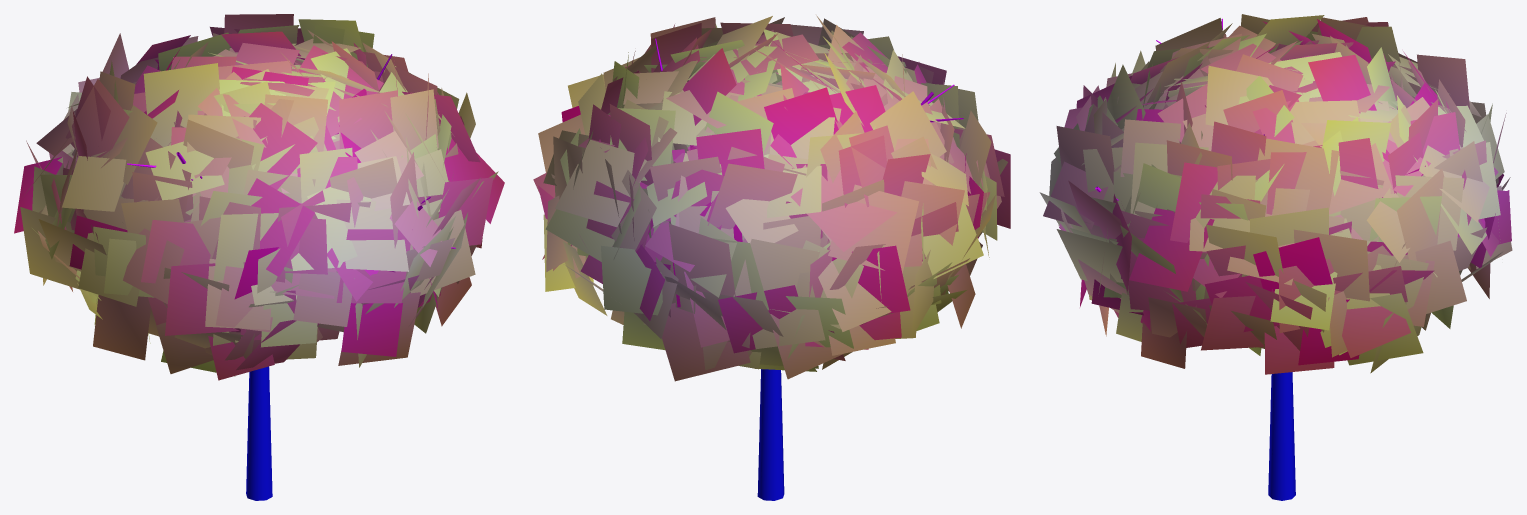
File: cherry_a_LODs.glb
3 views of the same model, side by side, from view 1: azimuth 30°, elevation 25°; view 2: azimuth 150°, elevation 25°; view 3: azimuth 270°, elevation 25° (orthographic).
Visible parts, largest first — view 1: cherry_a_LOD0; view 2: cherry_a_LOD0; view 3: cherry_a_LOD0.
Part boxes in pixels (x1,y1,x2,y2): cherry_a_LOD0: (14,14,504,500); cherry_a_LOD0: (533,15,1010,500); cherry_a_LOD0: (1039,14,1512,500).
Size of what is drawn, in the model's own units: 8 by 8.08 by 7.65.
